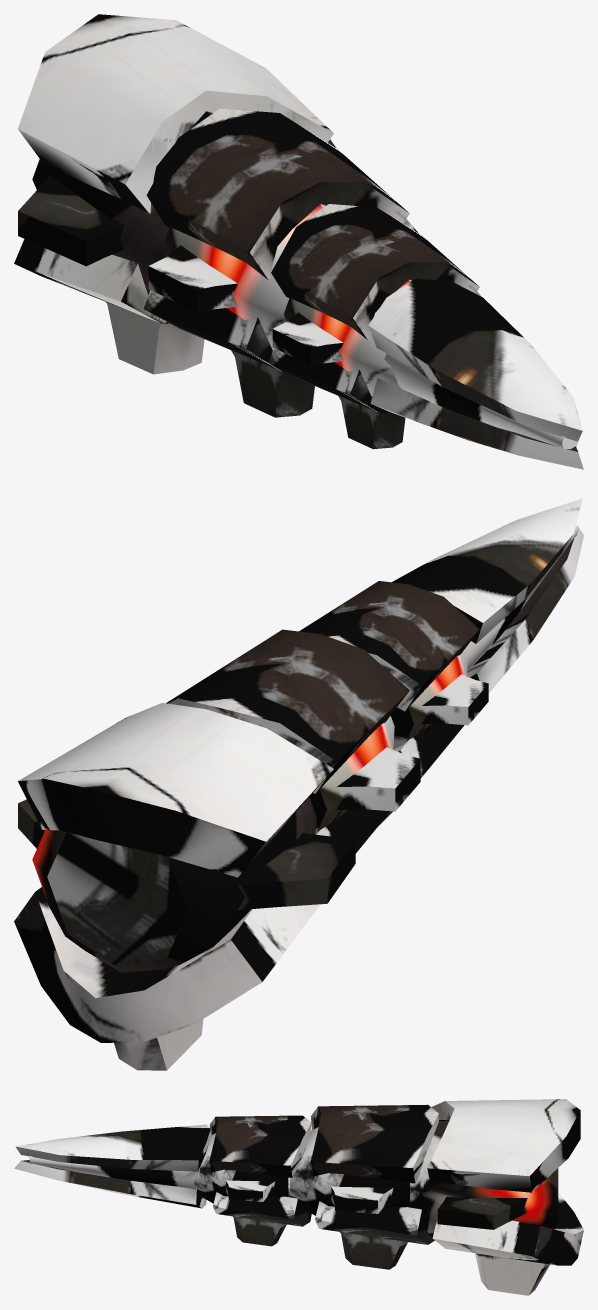
The model's file is ship17g.fbx.
The picture shows the model from 3 angles, top to bottom: view 1: azimuth 30°, elevation 25°; view 2: azimuth 150°, elevation 25°; view 3: azimuth 270°, elevation 25°; orthographic projection. The views are drawn at different scales.
Parts seen in each view (by area): view 1: PipelineFBX; view 2: PipelineFBX; view 3: PipelineFBX.
Boxes of the visible parts, x1=… form: PipelineFBX: x1=14, y1=14, x2=583, y2=469; PipelineFBX: x1=14, y1=498, x2=583, y2=1070; PipelineFBX: x1=14, y1=1099, x2=583, y2=1295.
Size of the model in its own units: 53.26 by 51.1 by 146.
Materials: 1 (1 with a texture image).
